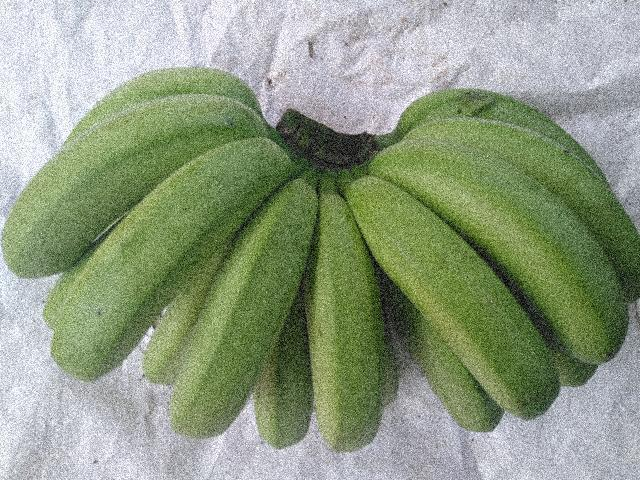unripe: (385, 128, 632, 368), (48, 153, 266, 371), (359, 189, 557, 424), (0, 94, 235, 270), (298, 172, 404, 476), (160, 225, 301, 436)
